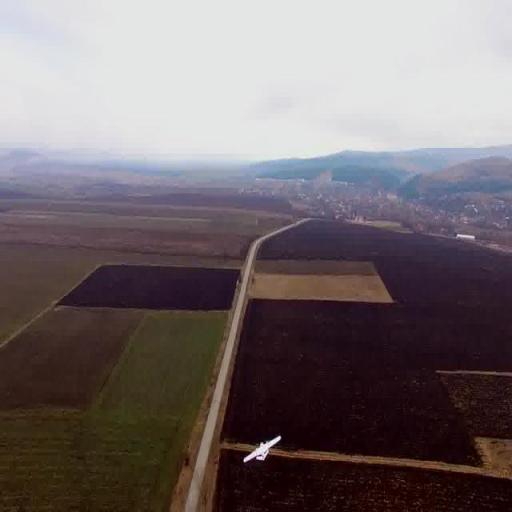uav: (236, 429, 286, 479)
